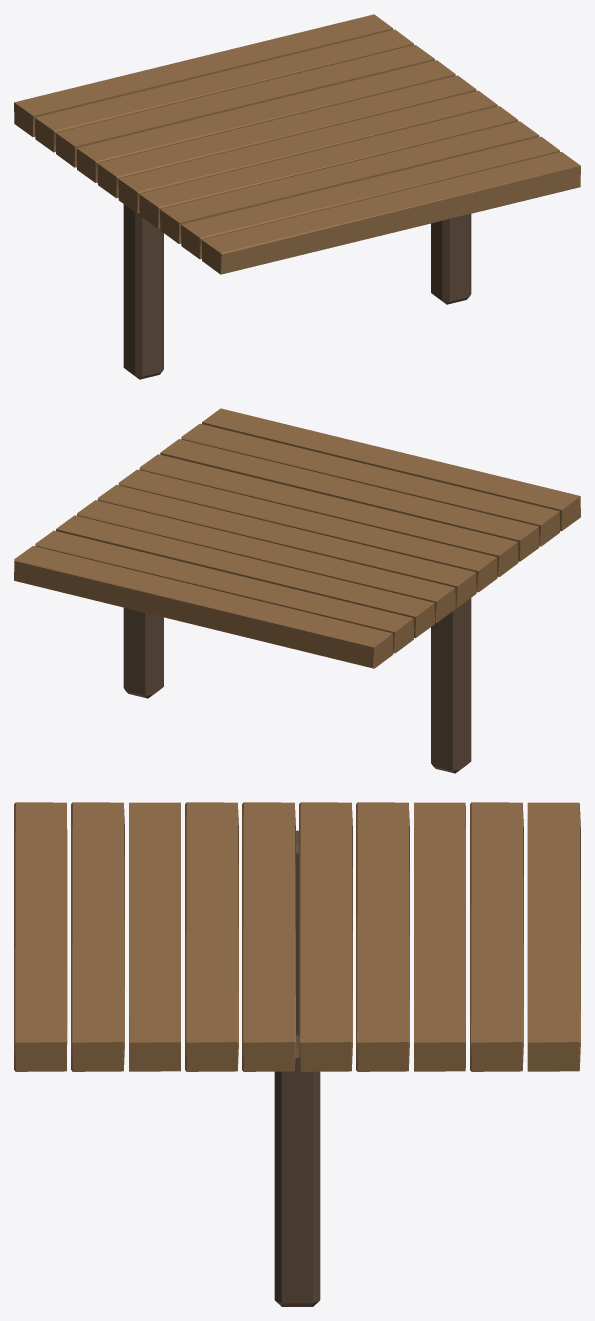
The model's file is harbor-pier.lod1.glb.
3 renders of one model, top to bottom at view 1: azimuth 30°, elevation 25°; view 2: azimuth 150°, elevation 25°; view 3: azimuth 270°, elevation 25°, orthographic. The views are drawn at different scales.
Parts seen in each view (by area): view 1: harbor-pier__body; view 2: harbor-pier__body; view 3: harbor-pier__body.
Part boxes in pixels (<box>): harbor-pier__body: <box>14,14,580,379</box>; harbor-pier__body: <box>14,408,580,773</box>; harbor-pier__body: <box>14,802,580,1306</box>.
Bounding box in the file's own units: 1.99 × 1.07 × 1.99.
